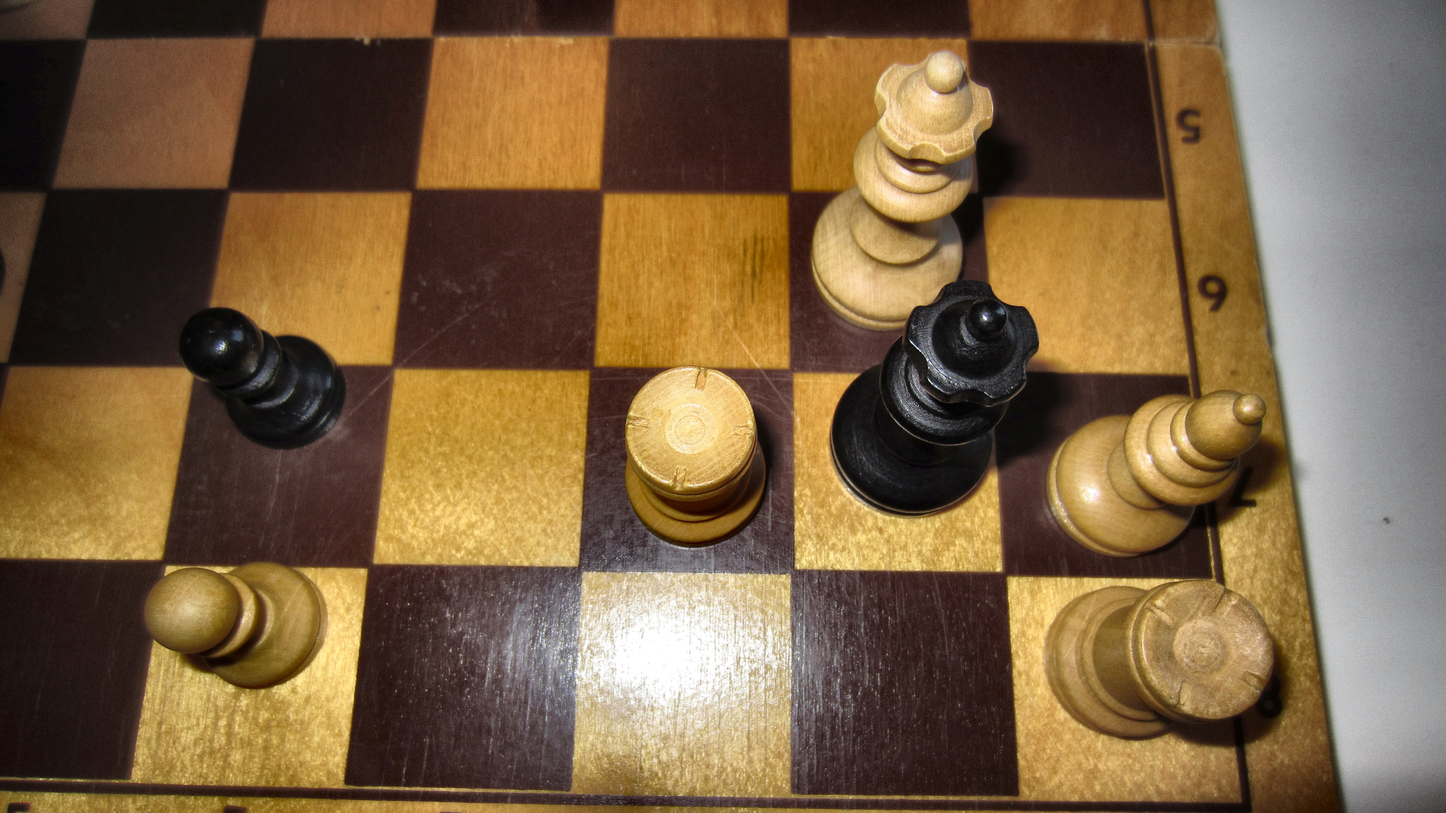black-pawn: (177, 305, 347, 449)
black-queen: (826, 280, 1042, 519)
white-bishop: (1043, 383, 1265, 558)
white-pawn: (142, 558, 328, 691)
white-queen: (804, 50, 996, 336)
white-rook: (1041, 580, 1276, 739), (623, 365, 767, 545)
